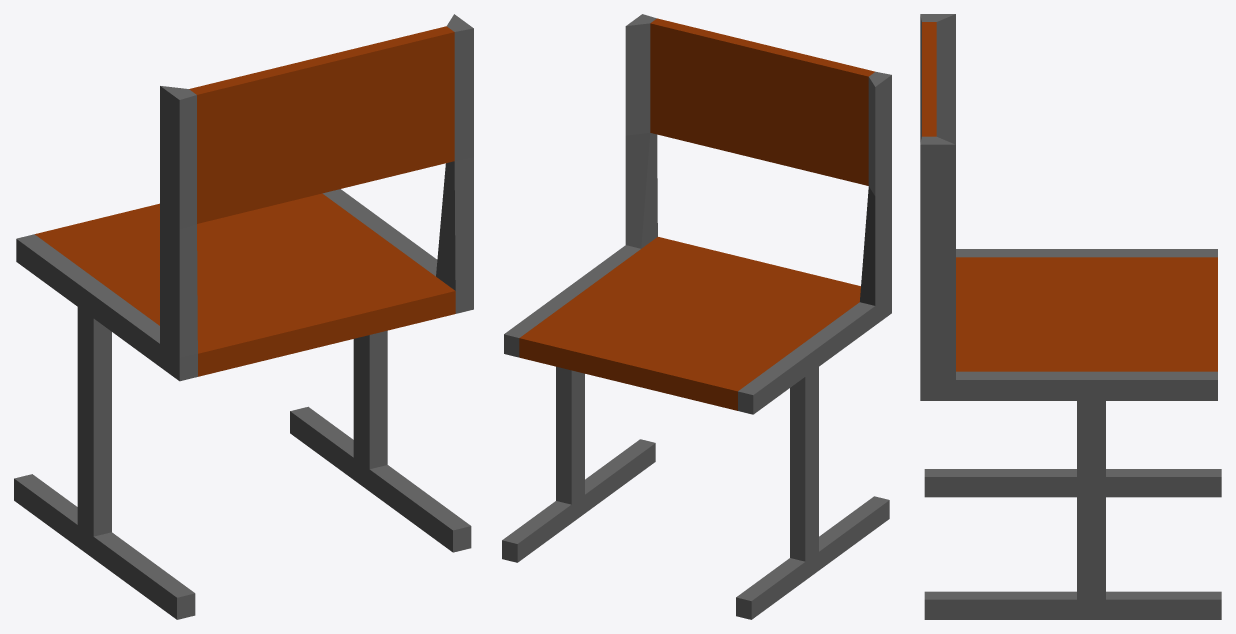
The model's file is chair.fbx.
3 views of the same model, side by side, from view 1: azimuth 30°, elevation 25°; view 2: azimuth 150°, elevation 25°; view 3: azimuth 270°, elevation 25° (orthographic). The views are drawn at different scales.
Visible parts, largest first — view 1: Куб; view 2: Куб; view 3: Куб.
Boxes of the visible parts, x1,y1,x2,y2 form: Куб: (14,14,473,619); Куб: (502,14,891,619); Куб: (920,14,1221,619).
Size of the model in its own units: 30.58 by 51.81 by 29.8.
